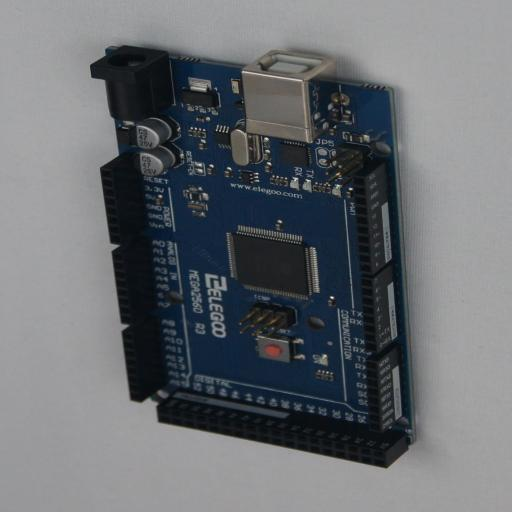Arduino Mega 2560 -Blue-: (90, 45, 416, 468)
